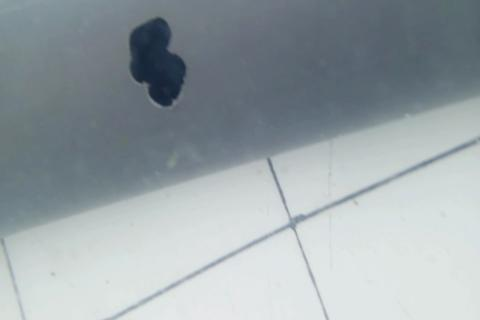kebocoran: (126, 14, 187, 112)
